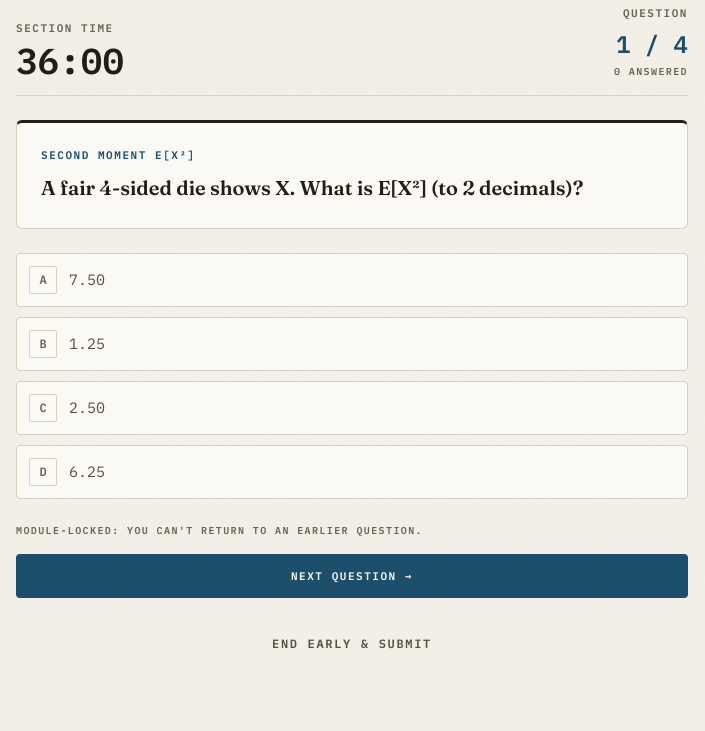
Test case: OaRunner — DERIVATION SET (IMC-style module-locked section) › is forward-only: shows a module-lock notice + 'Next question', no Previous/palette
Expected: the text "Section time" is shown, [16,21,114,35]
Expected: the text "Module-locked: you can't return to an earlier question." is shown, [16,524,423,537]
// Advancing moves forward without finishing.
Click the button "Next question →" at point(352, 576), box [16,554,688,598]
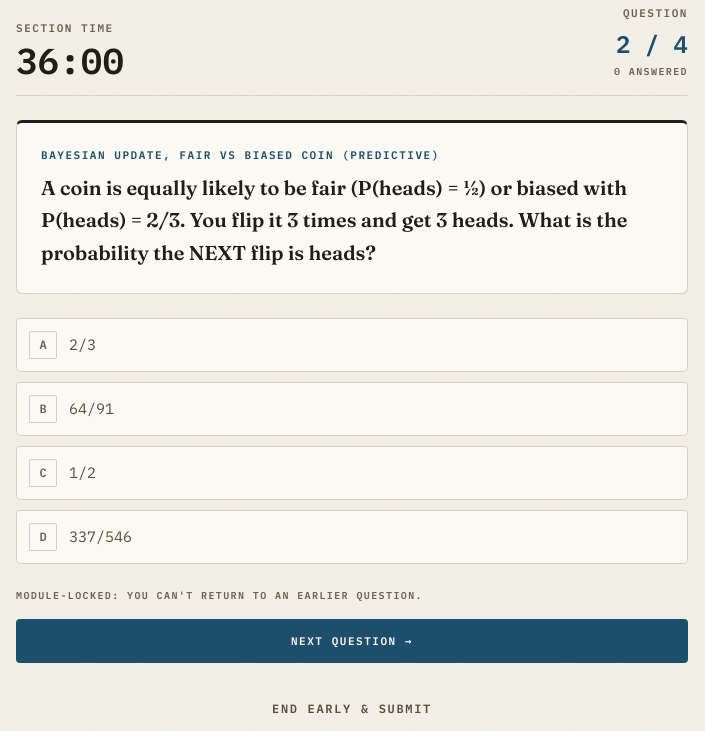
Expected: the text "2 / 4" is shown, [614,28,688,60]
